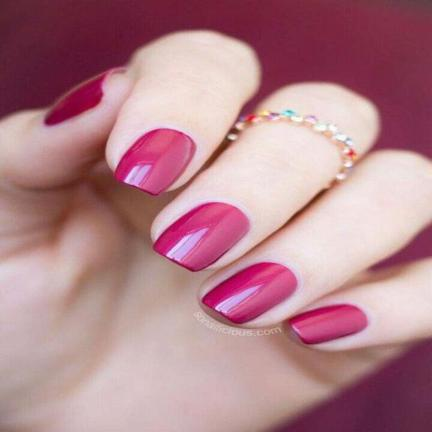Nail: (152, 201, 250, 272), (202, 262, 298, 325), (114, 128, 196, 195), (43, 72, 107, 127), (289, 303, 367, 345)
